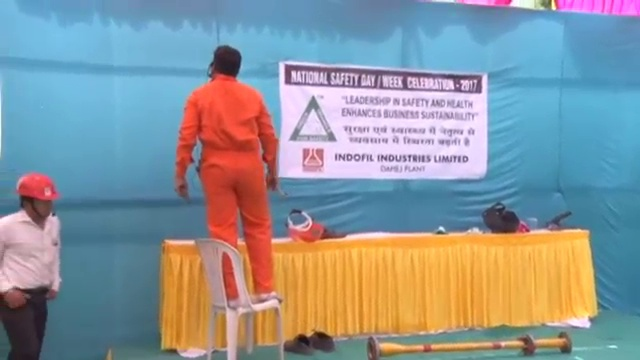helmet: (14, 172, 59, 200)
helmet_off: (208, 43, 242, 77)
helmet_on: (14, 173, 61, 225)
person: (172, 39, 293, 311), (1, 170, 70, 360)
